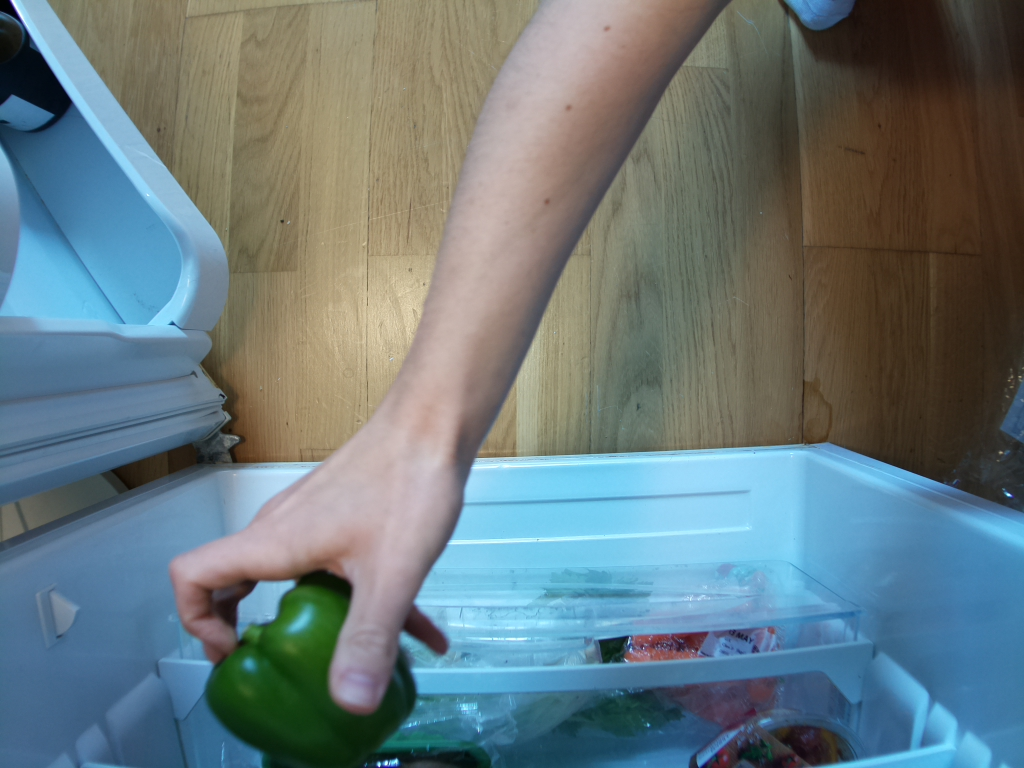pepper: (204, 573, 417, 764)
